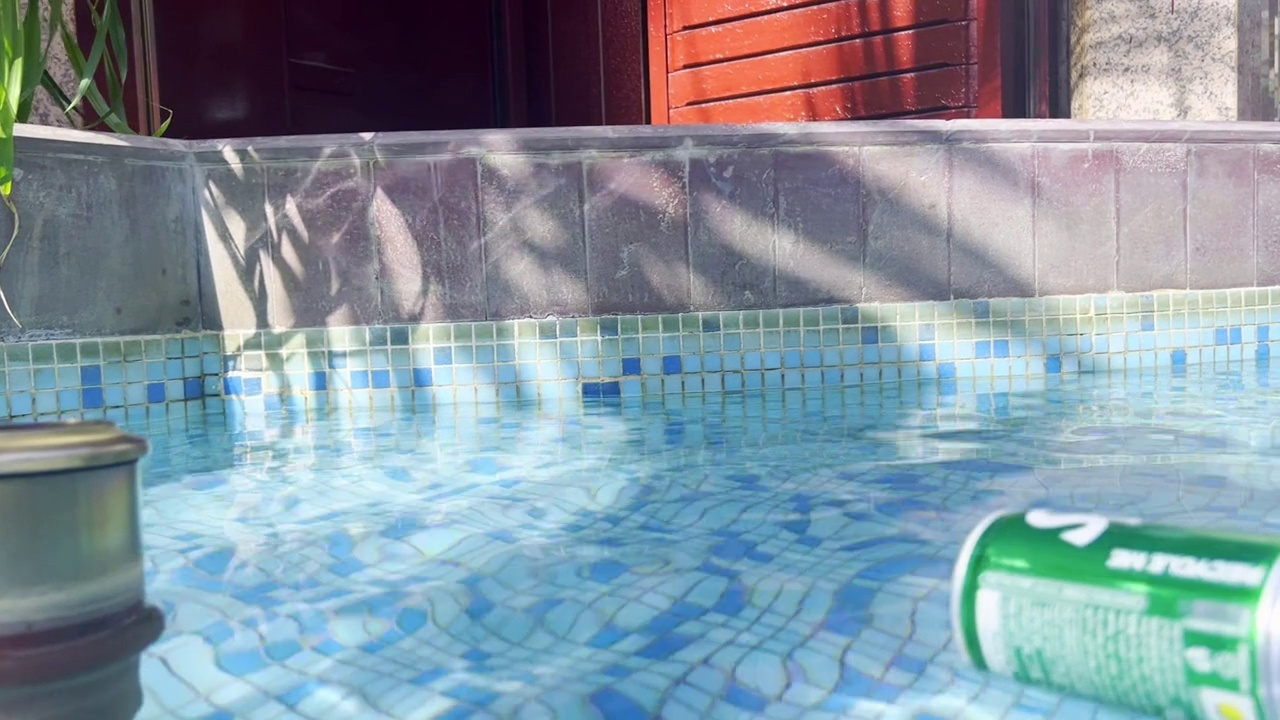debris: (940, 486, 1280, 720)
